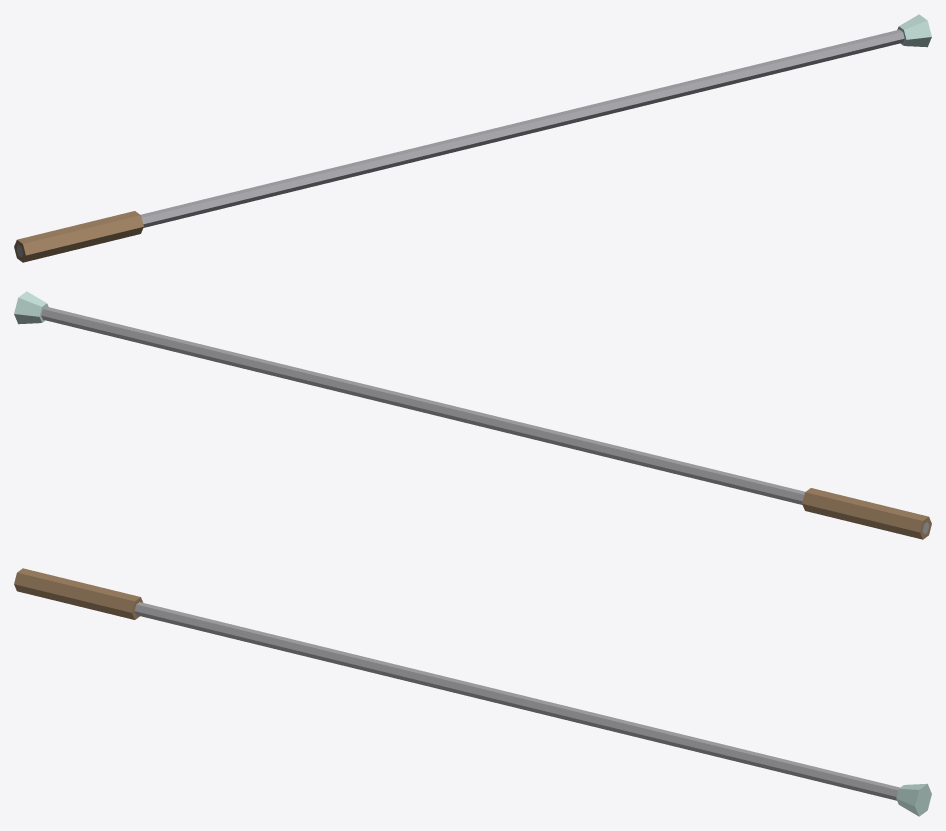
The model's file is prop-pontil-rod.fbx.
3 renders of one model, top to bottom at view 1: azimuth 30°, elevation 25°; view 2: azimuth 150°, elevation 25°; view 3: azimuth 330°, elevation 25°, orthographic.
Parts seen in each view (by area): view 1: prop-pontil-rod; view 2: prop-pontil-rod; view 3: prop-pontil-rod.
Part boxes in pixels (x1,y1,x2,y2): prop-pontil-rod: [14, 14, 931, 262]; prop-pontil-rod: [14, 291, 931, 539]; prop-pontil-rod: [14, 568, 931, 816].
Bounding box in the file's own units: 123 × 3.46 × 4.
